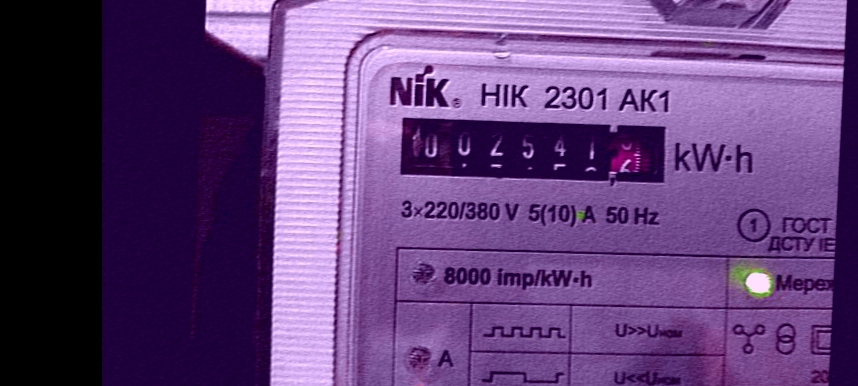0: (453, 125, 474, 159), (422, 130, 441, 159)
1: (581, 128, 599, 162)
2: (484, 126, 507, 161)
4: (550, 128, 569, 160)
5: (518, 129, 536, 162)
6: (616, 154, 633, 176)
screen: (384, 99, 688, 203)
